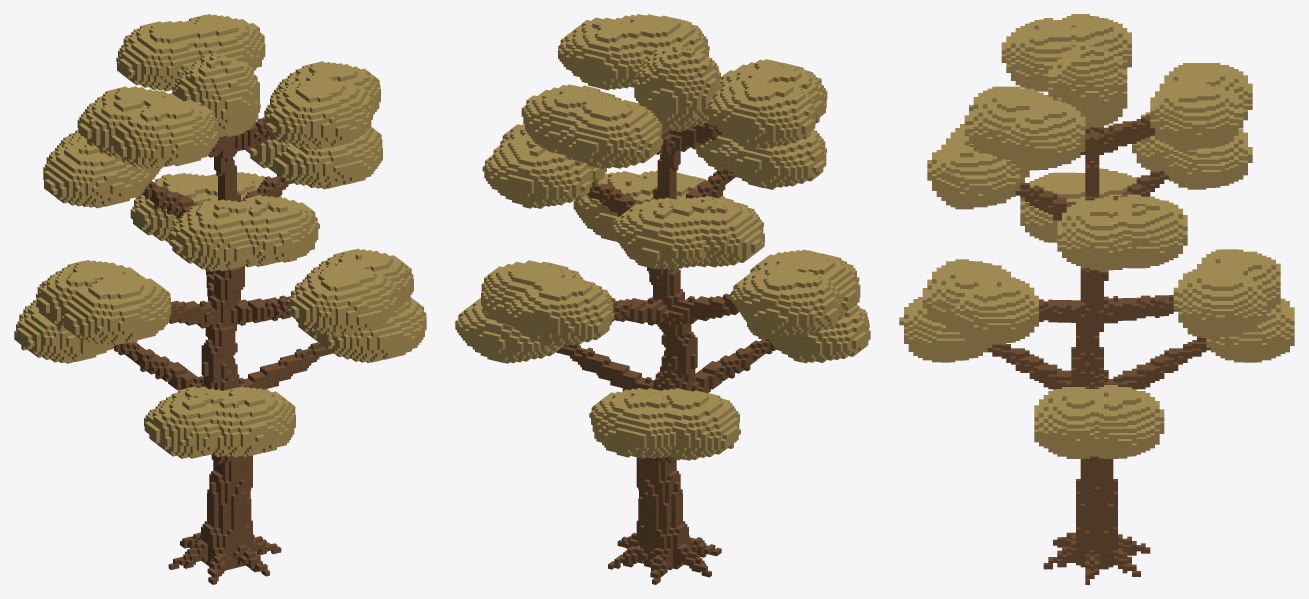
The picture shows the model from 3 angles, left to right: view 1: azimuth 30°, elevation 25°; view 2: azimuth 150°, elevation 25°; view 3: azimuth 270°, elevation 25°; orthographic projection.
Parts seen in each view (by area): view 1: 既有乔木色阶与高度族; view 2: 既有乔木色阶与高度族; view 3: 既有乔木色阶与高度族.
Part boxes in pixels (x1,y1,x2,y2): 既有乔木色阶与高度族: [14, 14, 426, 584]; 既有乔木色阶与高度族: [455, 14, 870, 584]; 既有乔木色阶与高度族: [899, 14, 1294, 584].
Size of the model in its own units: 18 by 24 by 17.
3 materials, 3 textured.
